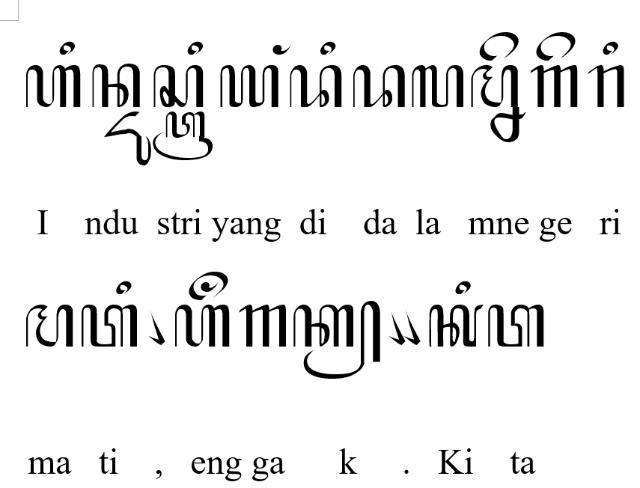-k: (293, 300, 383, 380)
K: (428, 303, 484, 347)
_du: (102, 111, 152, 167)
d: (352, 64, 406, 108), (290, 66, 342, 108)
e: (479, 30, 519, 61), (536, 31, 576, 61)
eng: (188, 271, 228, 301)
g: (239, 303, 287, 348), (530, 64, 578, 108)
h: (24, 64, 82, 108), (175, 304, 231, 348)
i: (602, 40, 620, 56), (59, 40, 75, 56), (187, 40, 203, 56), (320, 40, 336, 56), (116, 280, 132, 294), (455, 281, 471, 295)
kom: (148, 310, 166, 346), (388, 310, 406, 346), (403, 309, 421, 345)
l: (411, 64, 465, 108)
m: (26, 304, 74, 346)
mn: (470, 64, 526, 142)
n: (91, 62, 141, 108)
ng: (272, 44, 292, 56)
r: (587, 63, 625, 108)
s: (153, 63, 205, 108)
t: (80, 303, 138, 347), (488, 304, 544, 348)
tr: (152, 111, 214, 161)
y: (219, 64, 279, 108)
